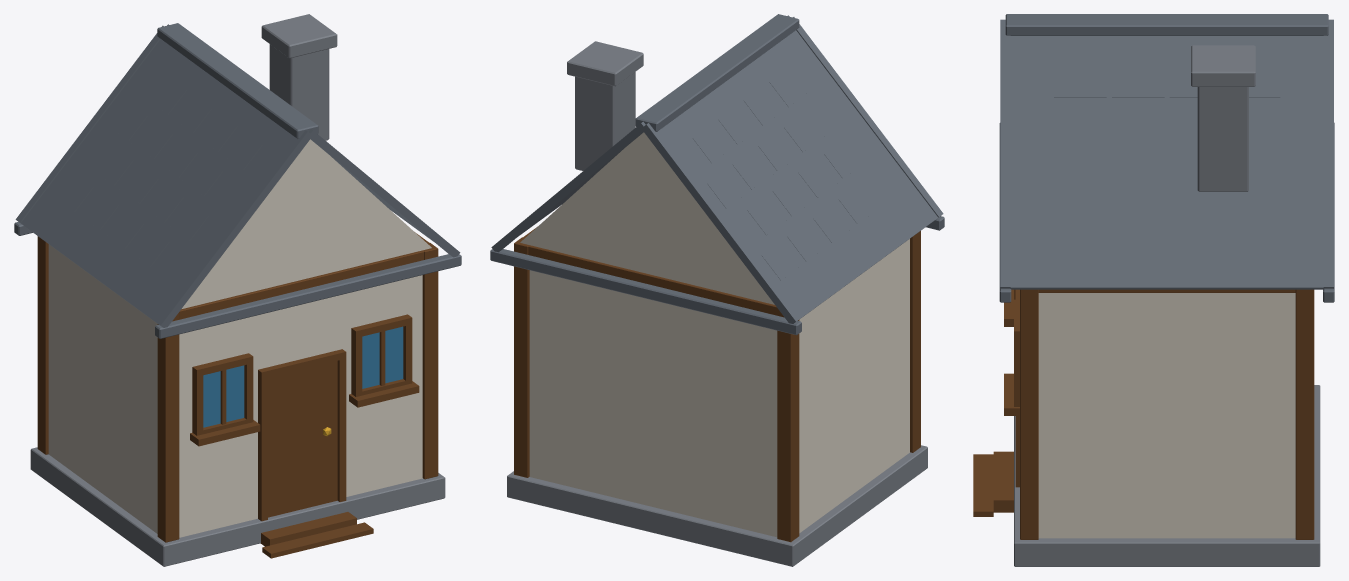
The model's file is house.glb.
3 renders of one model, left to right at view 1: azimuth 30°, elevation 25°; view 2: azimuth 150°, elevation 25°; view 3: azimuth 270°, elevation 25°, orthographic. The views are drawn at different scales.
Parts seen in each view (by area): view 1: prop_house_lod0; view 2: prop_house_lod0; view 3: prop_house_lod0.
Boxes of the visible parts, box(x1,y1,x2,y2) form: prop_house_lod0: box(14, 14, 461, 566); prop_house_lod0: box(490, 14, 944, 566); prop_house_lod0: box(973, 14, 1334, 566).
Bounding box in the file's own units: 2.36 × 3.1 × 2.12.
